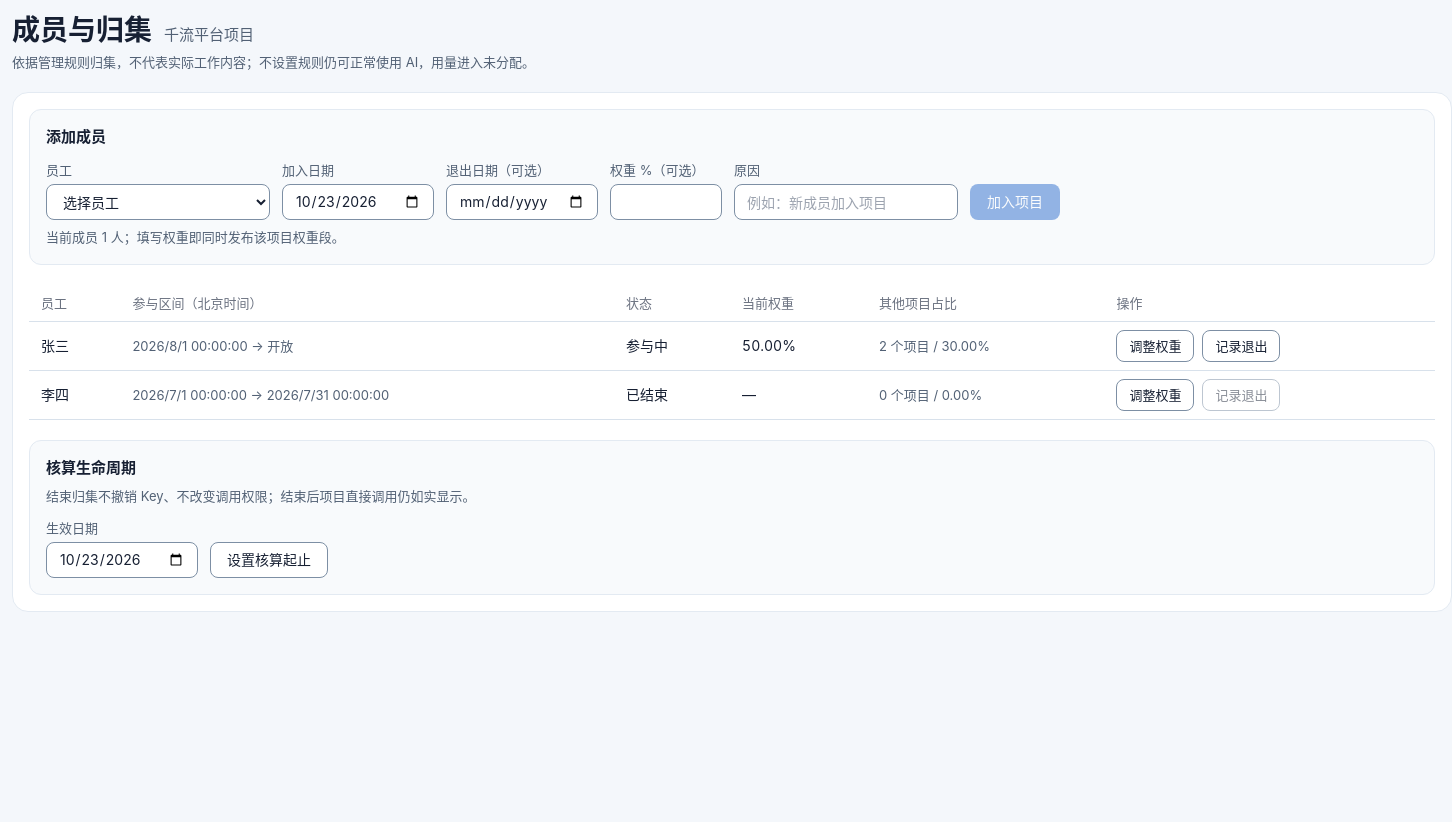
Test: 项目成员与归集页面 › 核算操作失败展示原因
Click the button "设置核算起止" at (269, 560), box [210,542,328,578]
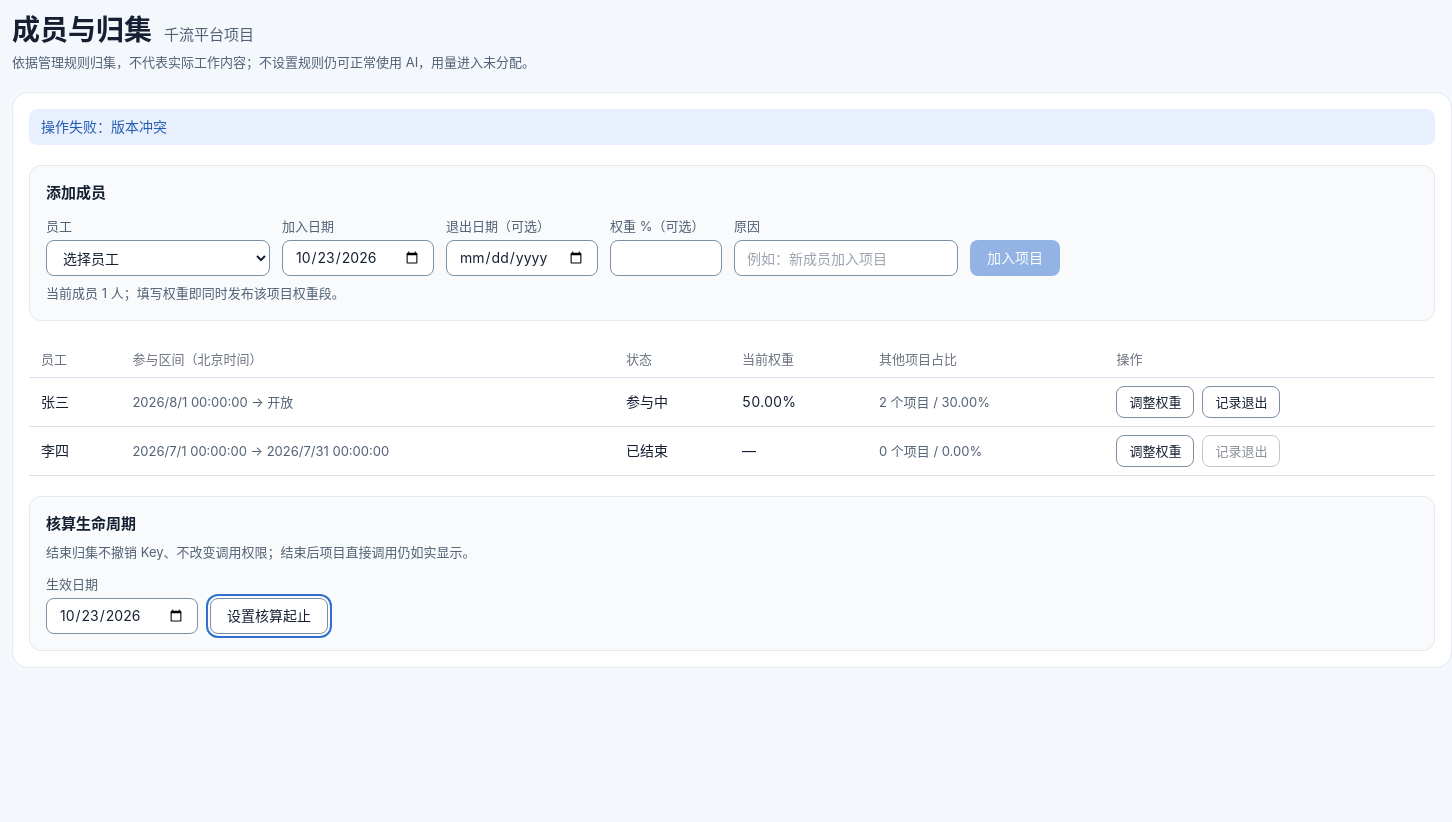
Check: the text "操作失败：版本冲突" is shown, box [29,109,1435,145]
